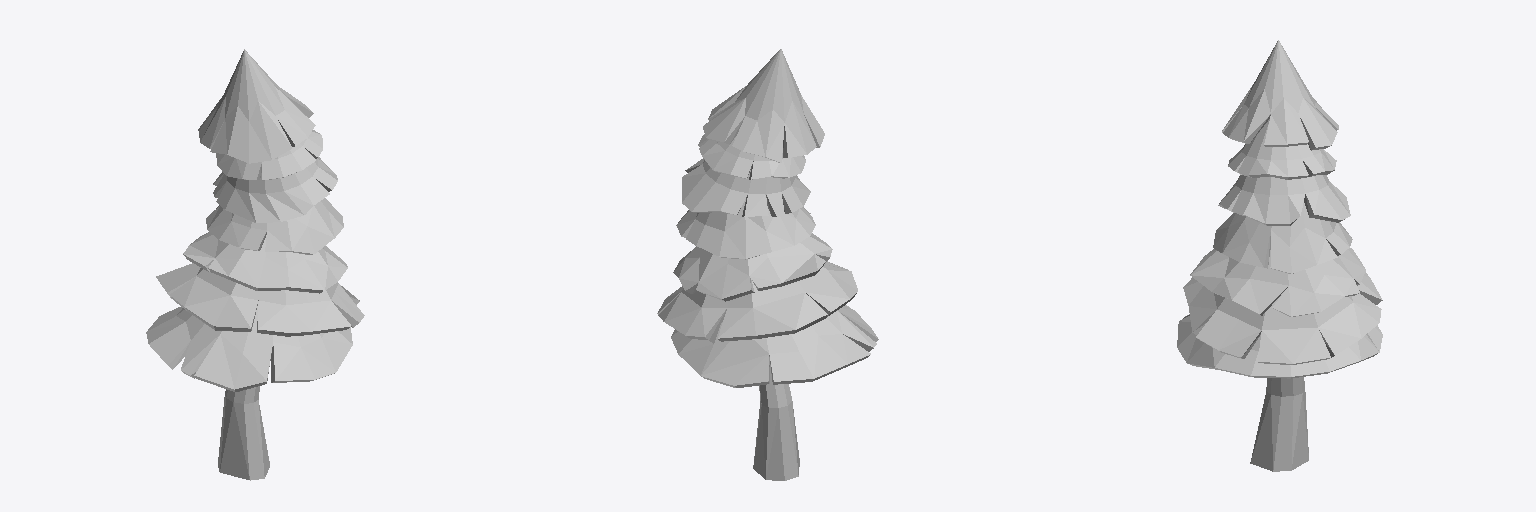
Rendered from Tree_6.obj.
3 renders of one model, left to right at view 1: azimuth 30°, elevation 25°; view 2: azimuth 150°, elevation 25°; view 3: azimuth 270°, elevation 25°, orthographic.
Visible parts, largest first — view 1: Tree_6; view 2: Tree_6; view 3: Tree_6.
Part boxes in pixels (x1,y1,x2,y2): Tree_6: (146,49,364,480); Tree_6: (657,49,878,480); Tree_6: (1177,40,1382,471).
Bounding box in the file's own units: 2.68 × 5.62 × 2.49.